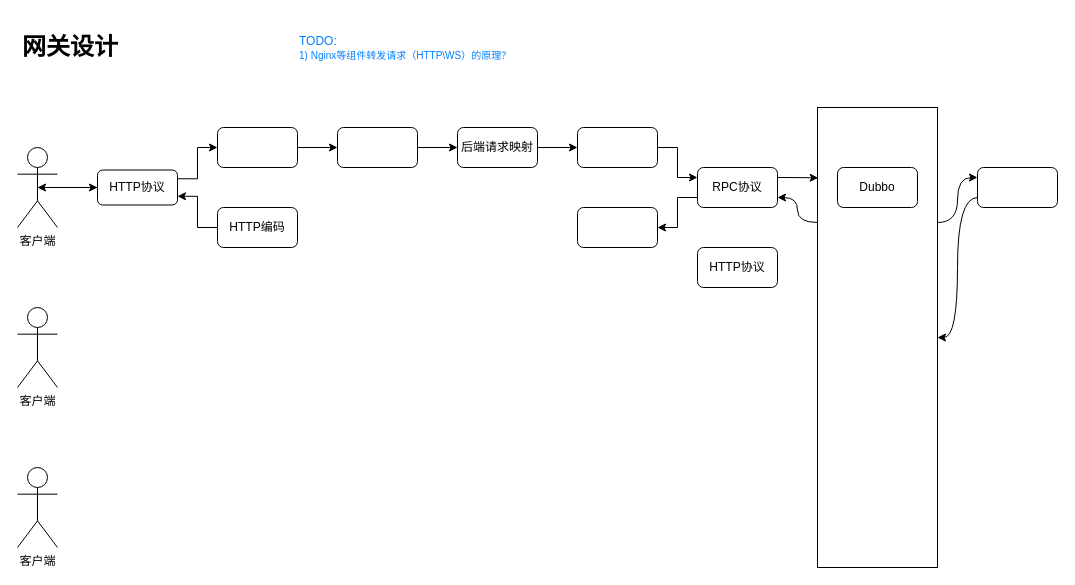
This 1075x585 diagram has some shape labels left out. Each missing label, with the box of its shape:
HTTP解码: (216, 126, 298, 168)
协议转换 &泛化调用: (576, 126, 658, 168)
微服务: (976, 166, 1058, 208)
请求内容: (336, 126, 418, 168)
